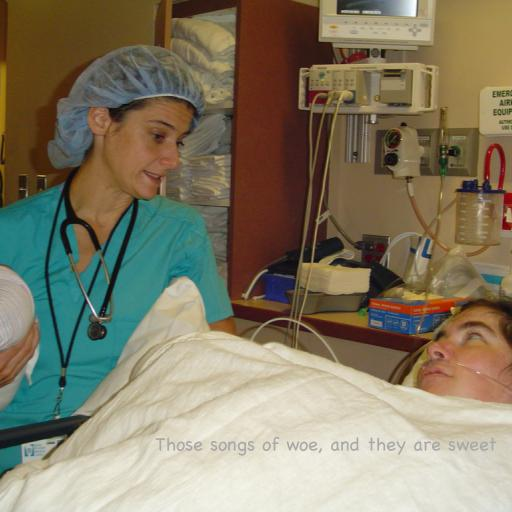Chalkboard: (154, 436, 496, 456)
